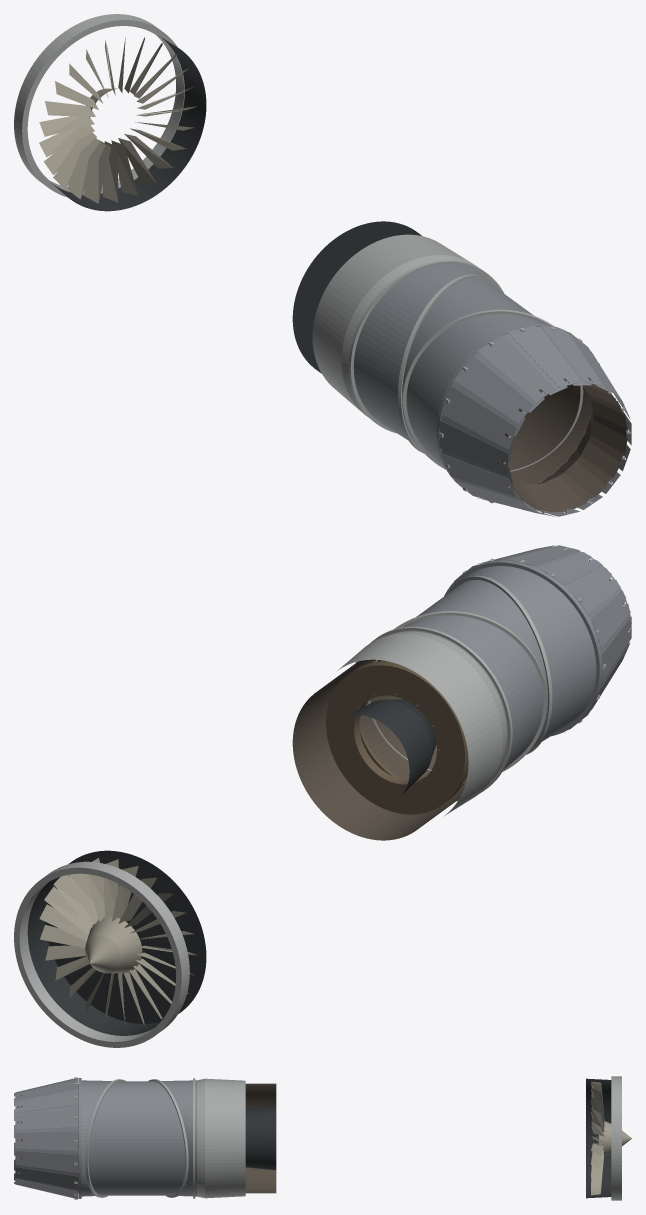
File: F135-PW-600-installed.glb
The picture shows the model from 3 angles, top to bottom: view 1: azimuth 30°, elevation 25°; view 2: azimuth 150°, elevation 25°; view 3: azimuth 270°, elevation 25°; orthographic projection. The views are drawn at different scales.
Visible parts, largest first — view 1: F135_FanFace, F135_AftCasing, F135_ForwardSwivelShell, F135_AftSwivelShell, F135_InletLip, F135_IntakeOccluder, F135_Centerbody, F135_MiddleLiner, F135_MiddleSwivelShell, F135_ForwardBearingRings, F135_Fairing_07_Metal, F135_Fairing_08_Metal (+10 smaller); view 2: F135_IntakeOccluder, F135_CoreFacingAnnulus, F135_FanFace, F135_AftCasing, F135_AftSwivelShell, F135_AugmentorLiner, F135_InletLip, F135_ForwardSwivelShell, F135_MiddleSwivelShell, F135_Centerbody, F135_ForwardBearingRings, F135_NozzleCollar (+7 smaller); view 3: F135_MiddleSwivelShell, F135_AftCasing, F135_Centerbody, F135_FanFace, F135_IntakeOccluder, F135_AugmentorLiner, F135_ForwardSwivelShell, F135_InletLip, F135_AftSwivelShell, F135_Fairing_02_Metal, F135_Fairing_03_Metal, F135_Fairing_01_Metal (+11 smaller).
Part boxes in pixels (x1,y1,x2,y2): F135_FanFace: [39, 37, 196, 203]; F135_AftCasing: [312, 234, 477, 417]; F135_ForwardSwivelShell: [353, 264, 485, 440]; F135_AftSwivelShell: [406, 314, 544, 467]; F135_InletLip: [14, 14, 184, 197]; F135_IntakeOccluder: [51, 36, 206, 211]; F135_Centerbody: [292, 221, 421, 372]; F135_MiddleLiner: [508, 384, 580, 470]; F135_MiddleSwivelShell: [402, 278, 533, 445]; F135_ForwardBearingRings: [349, 260, 504, 453]; F135_Fairing_07_Metal: [454, 356, 533, 423]; F135_Fairing_08_Metal: [440, 386, 516, 449]; F135_IntakeOccluder: [27, 850, 206, 1035]; F135_CoreFacingAnnulus: [326, 660, 468, 814]; F135_FanFace: [39, 858, 197, 1025]; F135_AftCasing: [337, 631, 506, 816]; F135_AftSwivelShell: [463, 566, 596, 741]; F135_AugmentorLiner: [292, 660, 461, 840]; F135_InletLip: [14, 861, 189, 1047]; F135_ForwardSwivelShell: [388, 615, 543, 777]; F135_MiddleSwivelShell: [416, 580, 547, 747]; F135_Centerbody: [345, 699, 436, 795]; F135_ForwardBearingRings: [356, 611, 547, 801]; F135_NozzleCollar: [444, 560, 602, 736]; F135_MiddleSwivelShell: [88, 1081, 185, 1195]; F135_AftCasing: [197, 1078, 245, 1198]; F135_Centerbody: [245, 1106, 276, 1170]; F135_FanFace: [591, 1081, 631, 1195]; F135_IntakeOccluder: [586, 1078, 611, 1198]; F135_AugmentorLiner: [245, 1083, 276, 1193]; F135_ForwardSwivelShell: [161, 1080, 196, 1196]; F135_InletLip: [611, 1076, 621, 1200]; F135_AftSwivelShell: [81, 1080, 112, 1196]; F135_Fairing_02_Metal: [15, 1131, 77, 1150]; F135_Fairing_03_Metal: [15, 1108, 77, 1129]; F135_Fairing_01_Metal: [15, 1150, 77, 1172].
Size of the model in its own units: 1.13 by 1.13 by 5.63.
